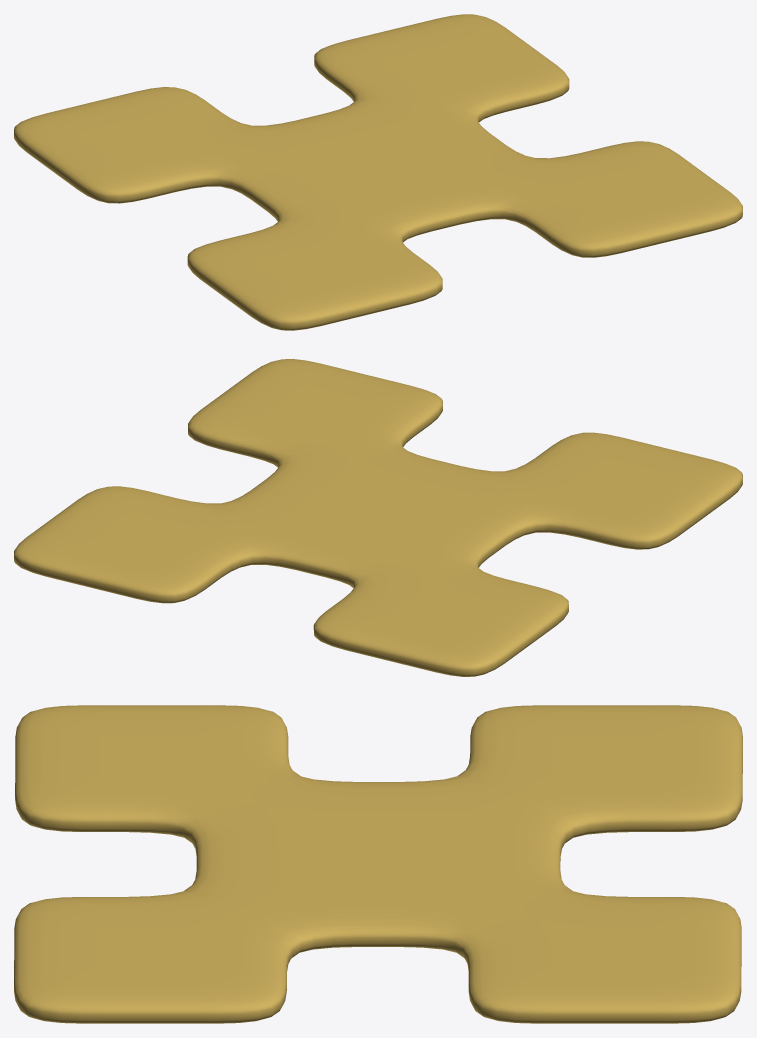
The model's file is GoldenPuzzle-13-FFFF.fbx.
3 renders of one model, top to bottom at view 1: azimuth 30°, elevation 25°; view 2: azimuth 150°, elevation 25°; view 3: azimuth 270°, elevation 25°, orthographic. The views are drawn at different scales.
Visible parts, largest first — view 1: Puzzle_013; view 2: Puzzle_013; view 3: Puzzle_013.
Part boxes in pixels (x1=…): Puzzle_013: x1=14, y1=14, x2=742, y2=330; Puzzle_013: x1=14, y1=359, x2=742, y2=676; Puzzle_013: x1=14, y1=705, x2=742, y2=1023.
Size of the model in its own units: 0.25 by 0.00924 by 0.2514.
